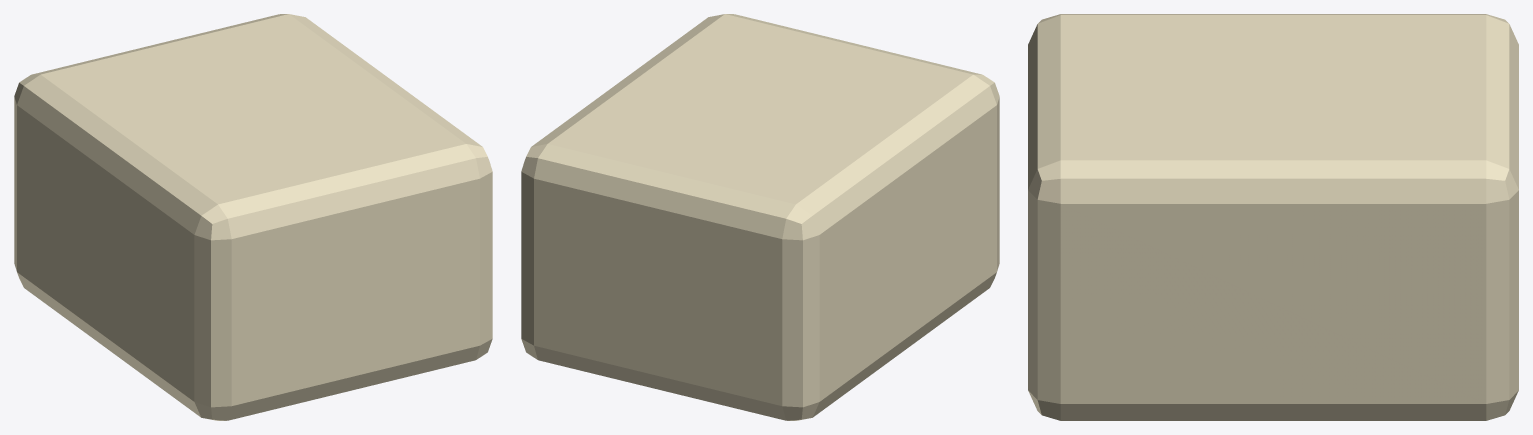
Rendered from sacks.glb.
3 renders of one model, left to right at view 1: azimuth 30°, elevation 25°; view 2: azimuth 150°, elevation 25°; view 3: azimuth 270°, elevation 25°, orthographic. The views are drawn at different scales.
Visible parts, largest first — view 1: sacks; view 2: sacks; view 3: sacks.
Part boxes in pixels (x1,y1,x2,y2): sacks: (14, 14, 492, 420); sacks: (521, 14, 999, 420); sacks: (1028, 14, 1518, 420).
Bounding box in the file's own units: 1 × 0.7 × 1.2.
